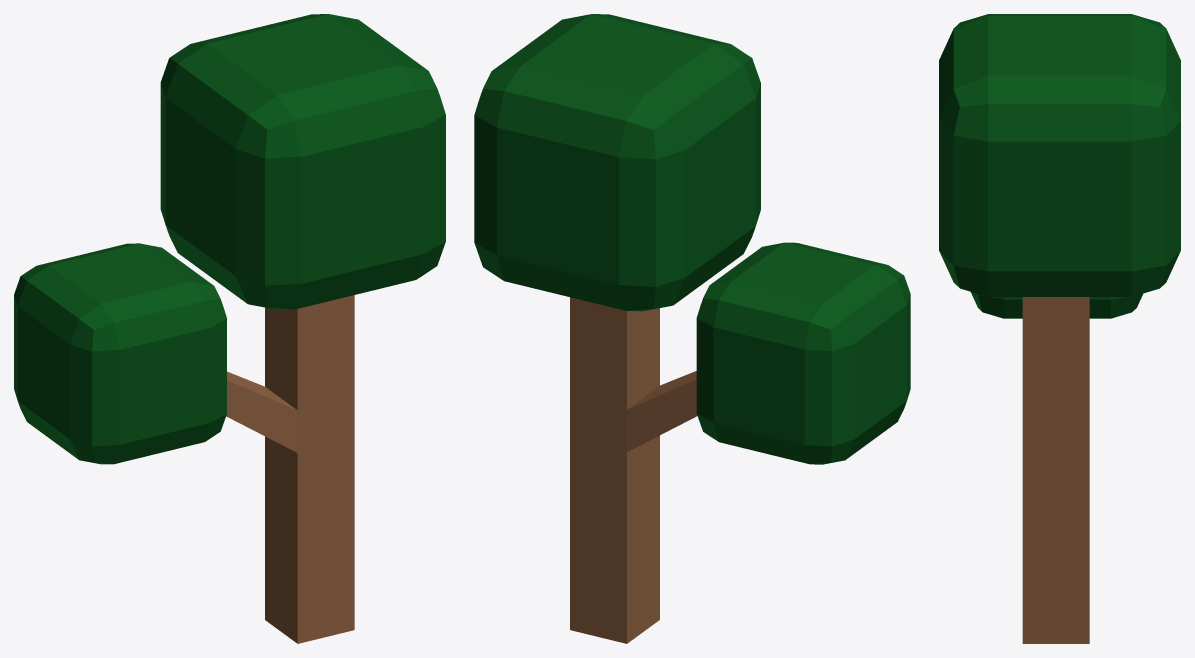
File: tree_39.glb
3 views of the same model, side by side, from view 1: azimuth 30°, elevation 25°; view 2: azimuth 150°, elevation 25°; view 3: azimuth 270°, elevation 25° (orthographic). The views are drawn at different scales.
Parts seen in each view (by area): view 1: body; view 2: body; view 3: body.
Part boxes in pixels (left/top/right/bottom): body: left=14, top=14, right=445, bottom=643; body: left=474, top=14, right=910, bottom=643; body: left=939, top=14, right=1180, bottom=643.
Bounding box in the file's own units: 1.15 × 1.72 × 0.6486.
